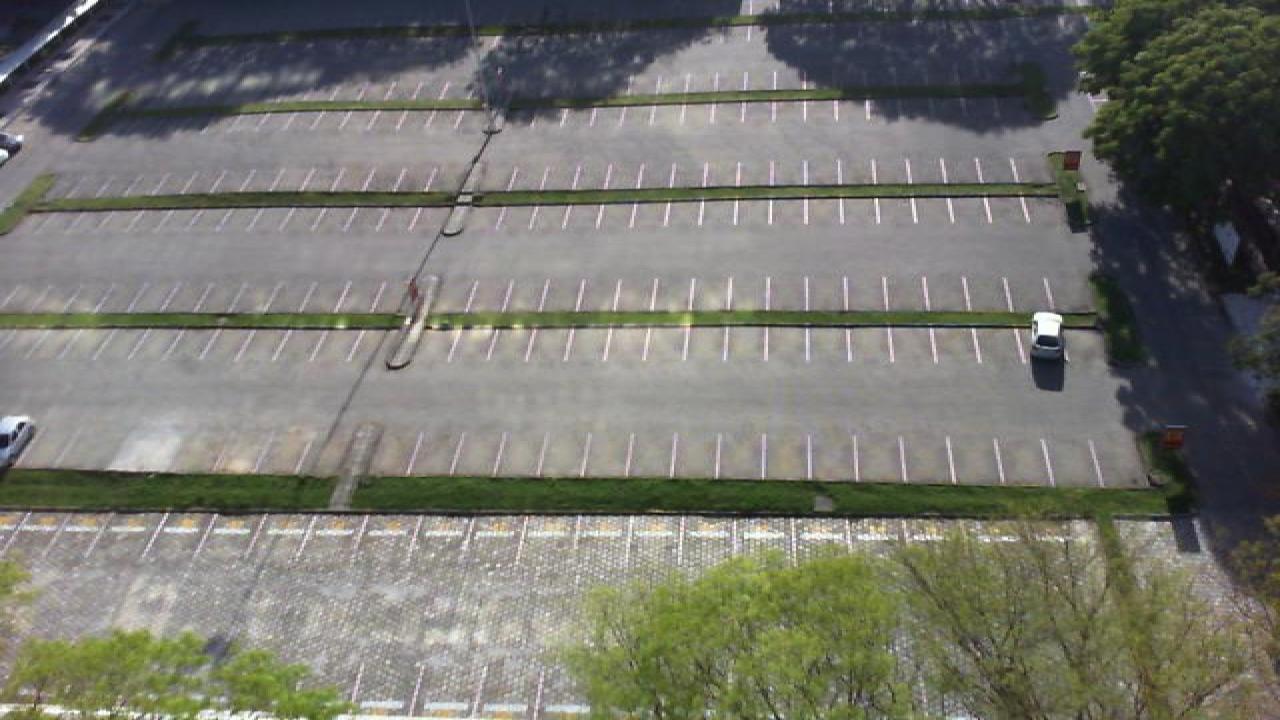Car: (1030, 312, 1068, 360), (0, 415, 34, 466), (0, 130, 22, 161)
